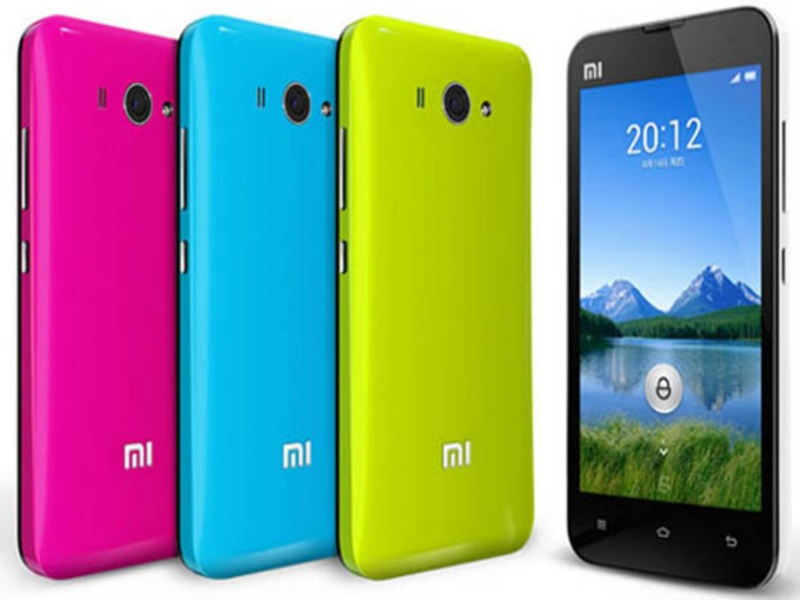cellphone: (565, 12, 783, 594), (320, 31, 532, 588), (14, 9, 180, 593), (178, 15, 341, 580)
